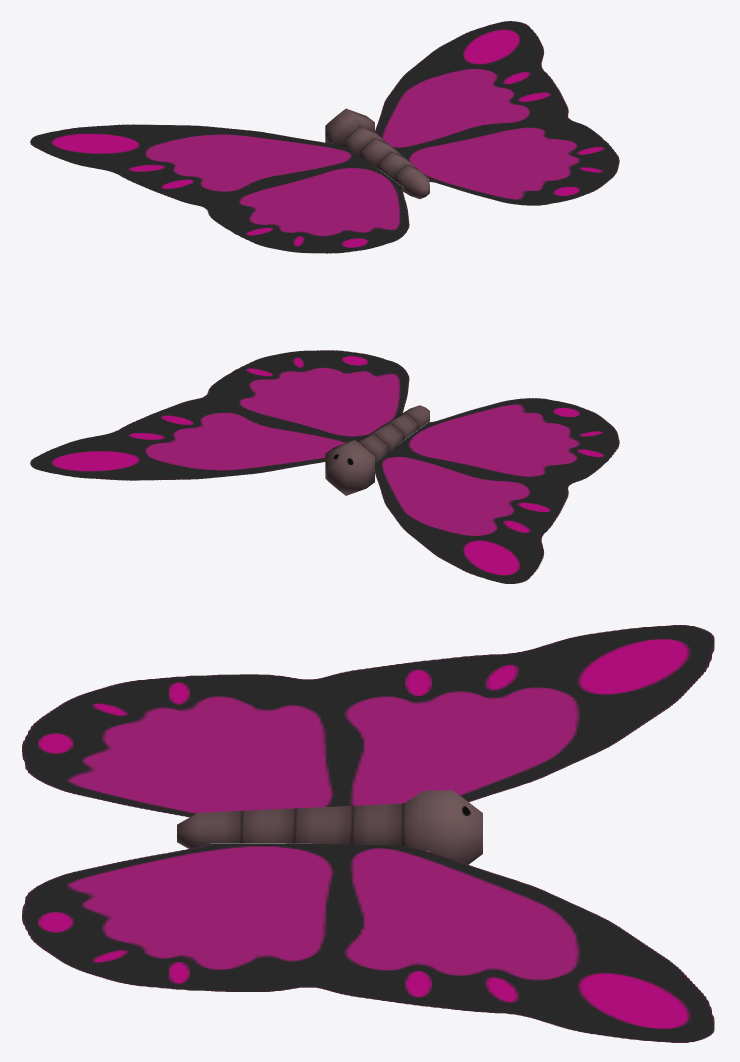
File: ButterFly.FBX
3 views of the same model, one above another, from view 1: azimuth 30°, elevation 25°; view 2: azimuth 150°, elevation 25°; view 3: azimuth 270°, elevation 25° (orthographic). The views are drawn at different scales.
Parts seen in each view (by area): view 1: LeftWing, RightWing, Body; view 2: LeftWing, RightWing, Body; view 3: RightWing, LeftWing, Body.
Boxes of the visible parts, x1,y1,x2,y2 form: LeftWing: (30, 124, 409, 253); RightWing: (375, 21, 619, 205); Body: (325, 108, 429, 199); LeftWing: (374, 398, 619, 584); RightWing: (30, 350, 409, 480); Body: (325, 405, 429, 495); RightWing: (22, 843, 714, 1042); LeftWing: (22, 625, 714, 817); Body: (177, 790, 482, 864).
Size of the model in its own units: 53.36 by 5.01 by 37.58.
